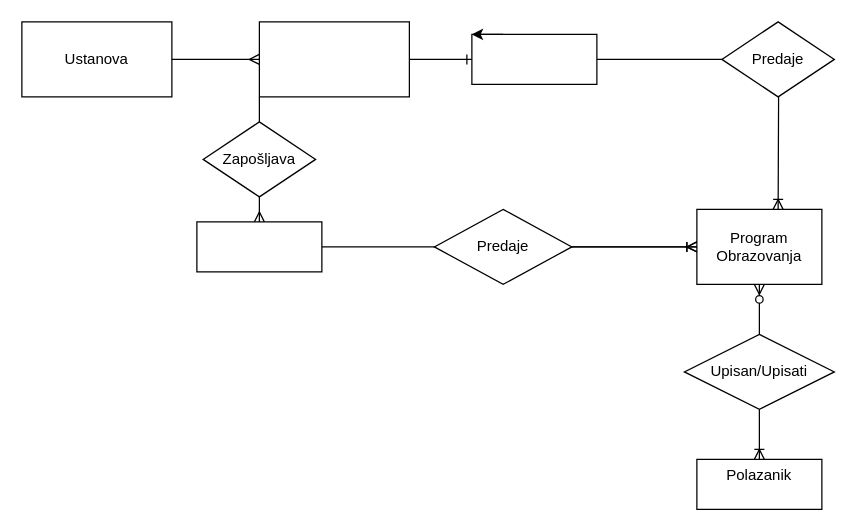
The diagram is 856 pixels wide and 531 high, and some of its shapes have lost their labels. Here are the shapes that lost their labels. From the top down, the centre of each, then its label:
[333,59]: Odjel
[534,58]: Voditelj
[259,246]: Nastavnik
